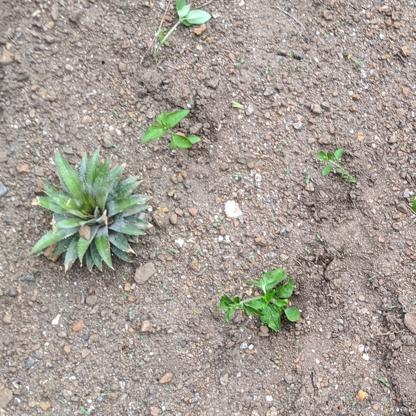pineapple: (30, 145, 151, 272)
weed: (219, 267, 305, 334), (140, 107, 203, 154), (154, 1, 216, 44), (316, 144, 355, 186)
